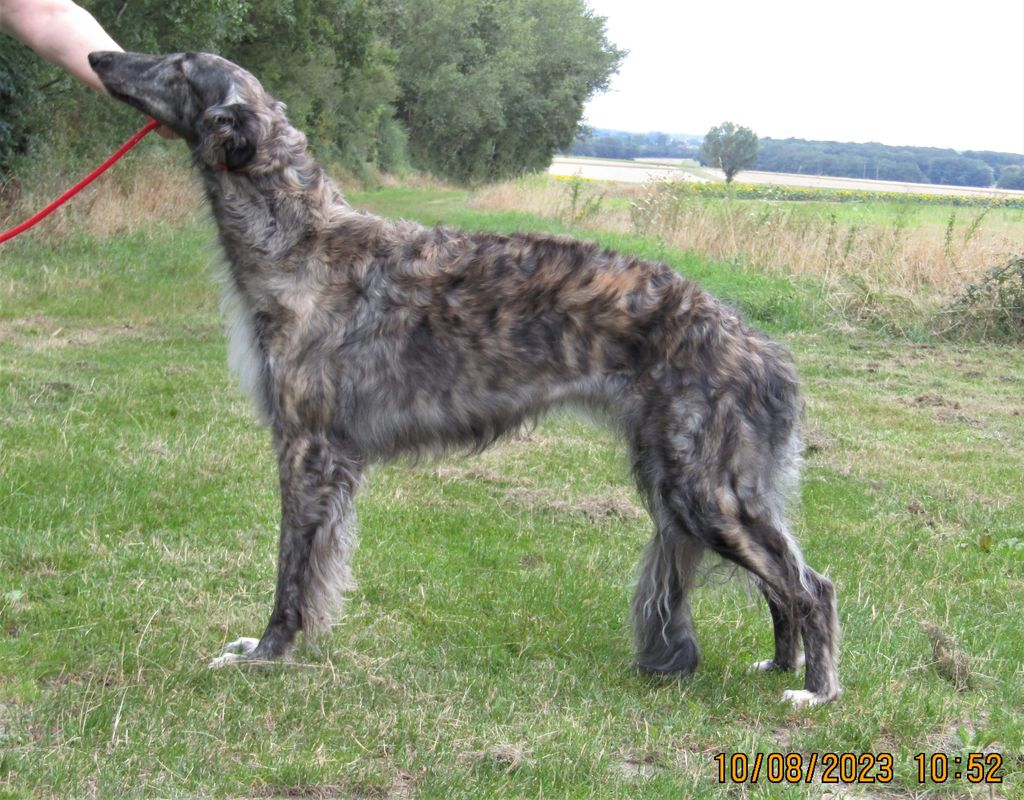borzoi: (84, 40, 851, 714)
